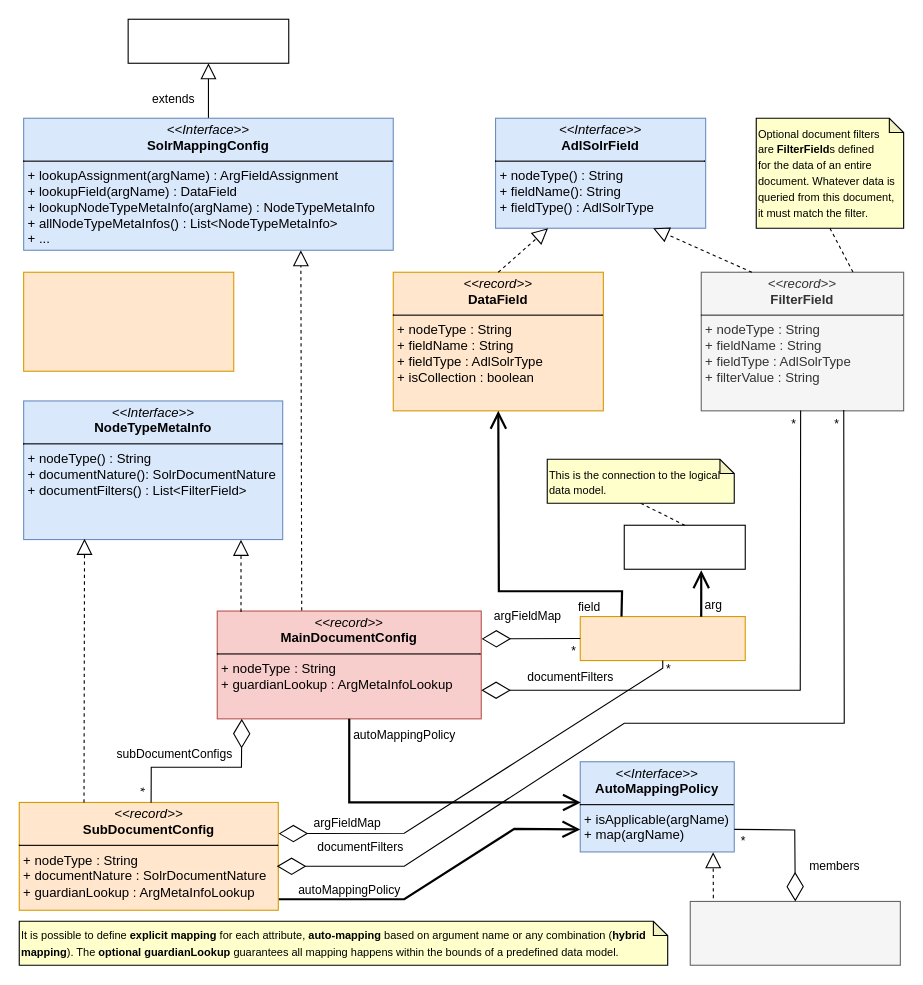
This 923x985 diagram has some shape labels left out. The shapes that lost their labels are listed below. From the top down, each one's centre as x and y in pixels, then its label:
At pixel 208 40: "<<Interface>> ArgMetaInfoLookup".
At pixel 128 321: "<<enum>> SolrDocumentNature + MAIN + NESTED + DEPENDENT".
At pixel 684 546: "<<Interface>> ArgMetaInfo".
At pixel 662 638: "<<record>> ArgFieldAssignment".
At pixel 794 932: "<<record>> CompositeAutomappingPolicy".
